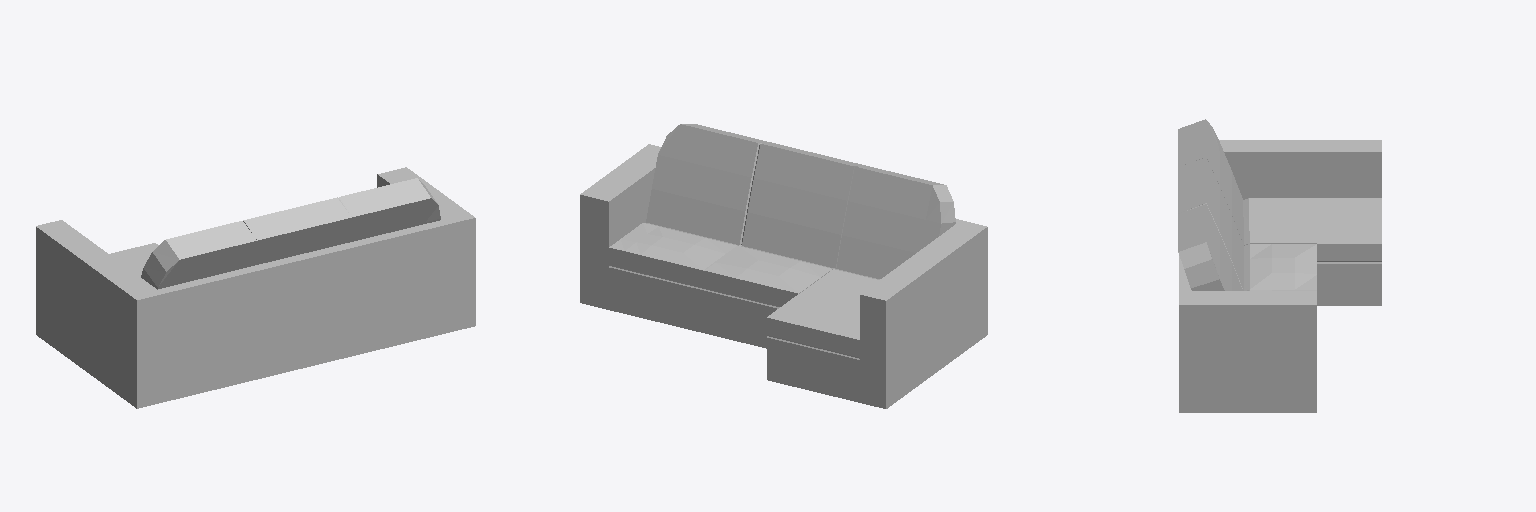
Rendered from Canapea.obj.
3 renders of one model, left to right at view 1: azimuth 30°, elevation 25°; view 2: azimuth 150°, elevation 25°; view 3: azimuth 270°, elevation 25°, orthographic.
Parts seen in each view (by area): view 1: Couch_Cube.026; view 2: Couch_Cube.026; view 3: Couch_Cube.026.
Boxes of the visible parts, box(x1,y1,x2,y2) form: Couch_Cube.026: box(36, 167, 475, 408); Couch_Cube.026: box(580, 124, 987, 408); Couch_Cube.026: box(1178, 119, 1381, 412).
Size of the model in its own units: 2.95 by 1.24 by 1.54.